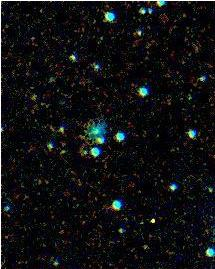star: (139, 204, 169, 234)
